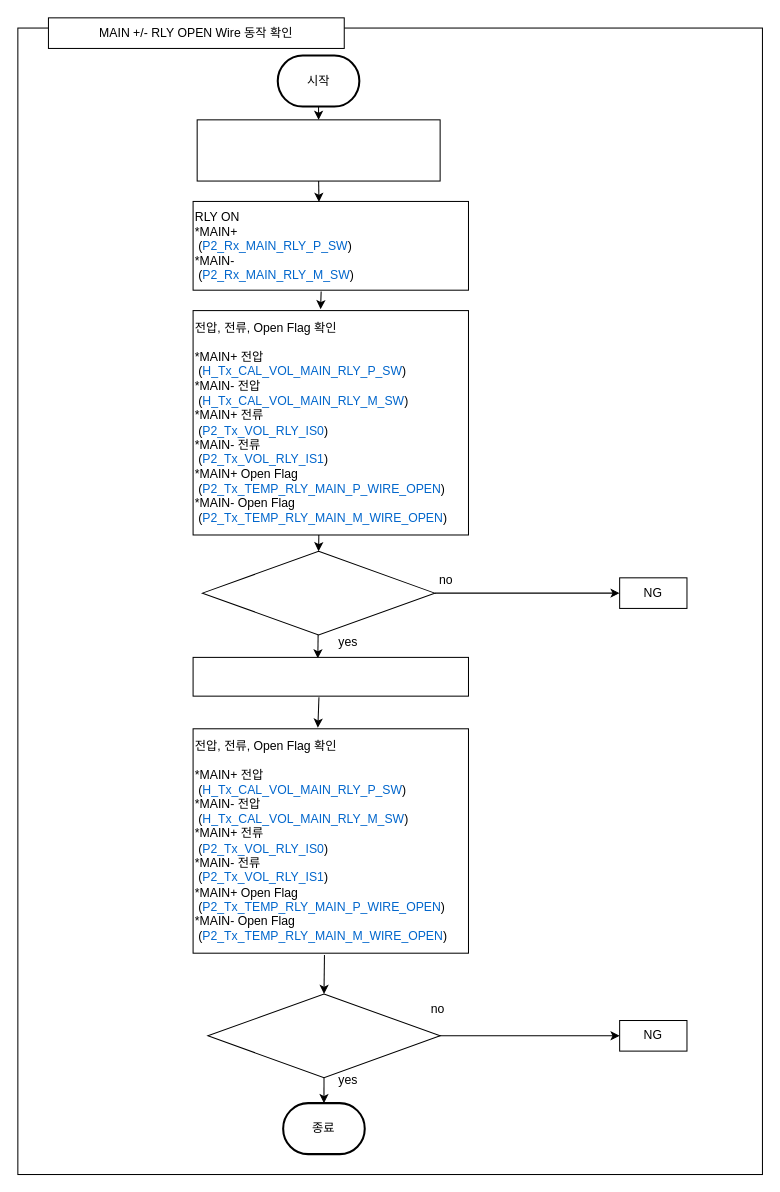
The diagram is 780 pixels wide and 1192 high, and some of its shapes have lost their labels. Each missing label, with the centre of its shape:
RLY Wire-Open: (330,676)
전압 = ON 전류 = ON Open Flag = OFF: (318,592)
전압 = ON 전류 = OPEN Open Flag = ON: (323,1035)
전압 인가 - B+BATT, LATCH SEN, IG3 = 13.8V: (318,150)
